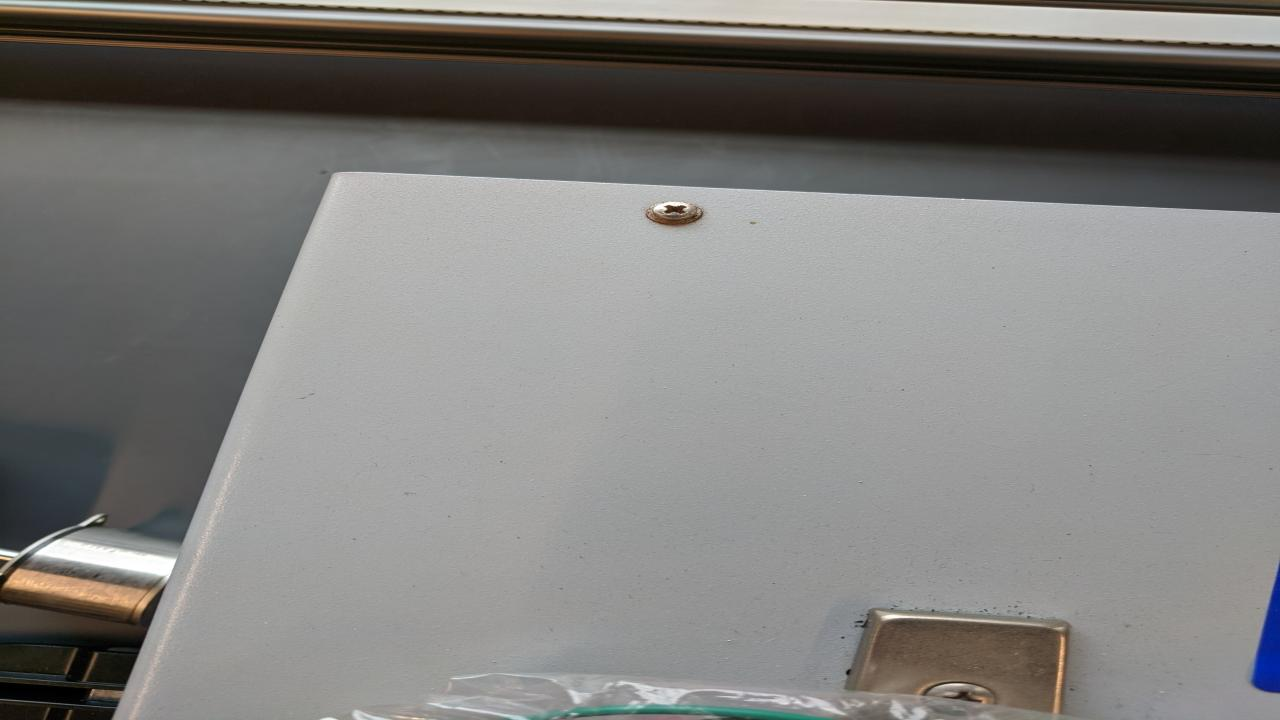CRS: (920, 680, 1008, 716), (648, 200, 702, 228)
